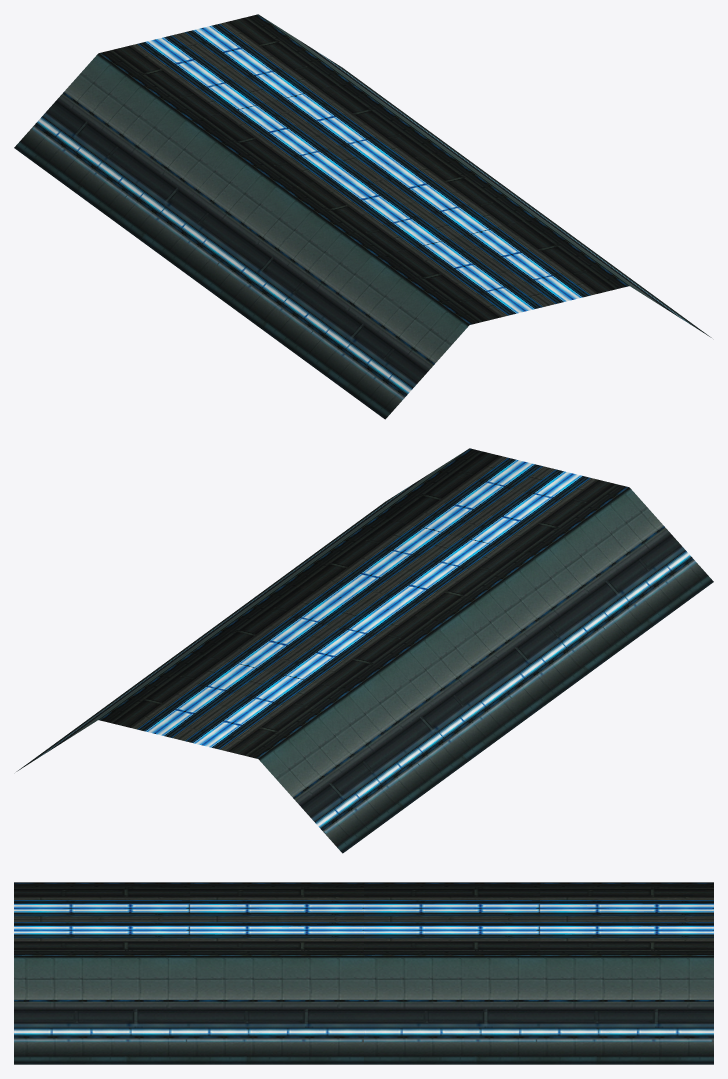
The model's file is fb_suidao_wuding01.FBX.
3 renders of one model, top to bottom at view 1: azimuth 30°, elevation 25°; view 2: azimuth 150°, elevation 25°; view 3: azimuth 270°, elevation 25°, orthographic. The views are drawn at different scales.
Parts seen in each view (by area): view 1: fb_suidao_wuding01; view 2: fb_suidao_wuding01; view 3: fb_suidao_wuding01.
Part boxes in pixels (x1=…): fb_suidao_wuding01: x1=14, y1=14, x2=711, y2=419; fb_suidao_wuding01: x1=16, y1=448, x2=713, y2=853; fb_suidao_wuding01: x1=14, y1=882, x2=713, y2=1064.
Size of the model in its own units: 610 by 131 by 1193.
